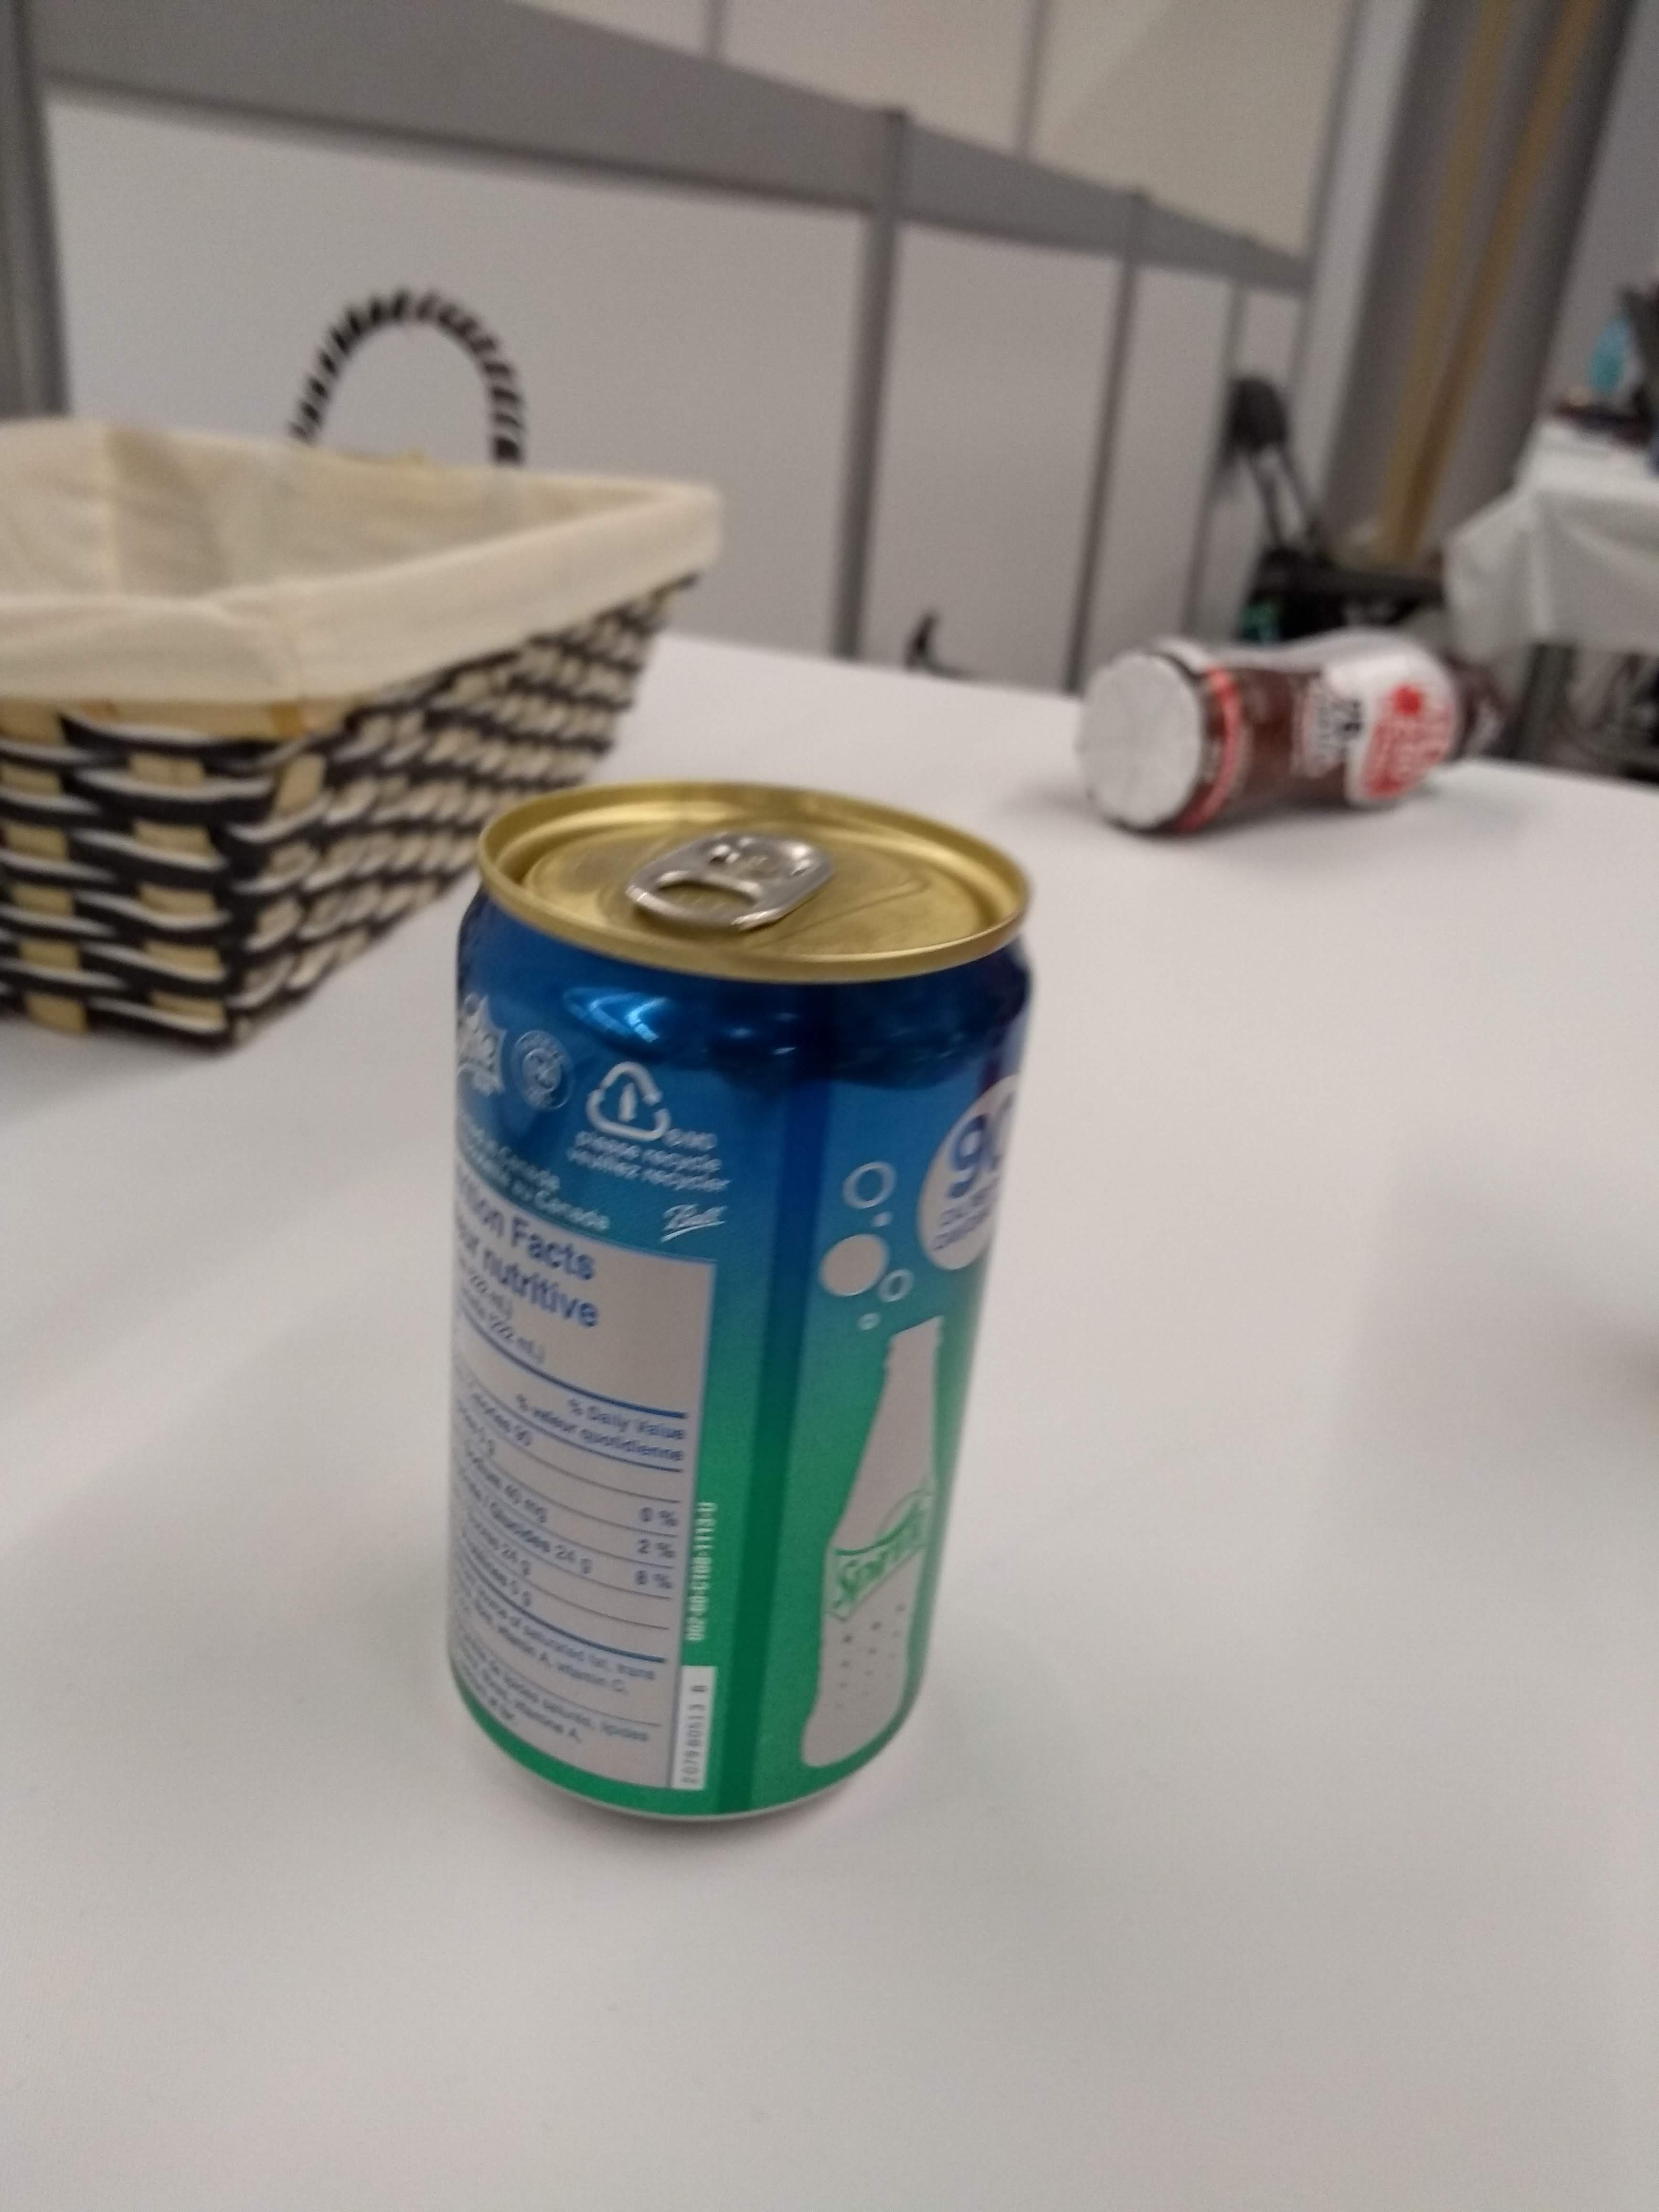chocolate_drink: (1053, 613, 1506, 852)
sprite: (411, 770, 1049, 1848)
